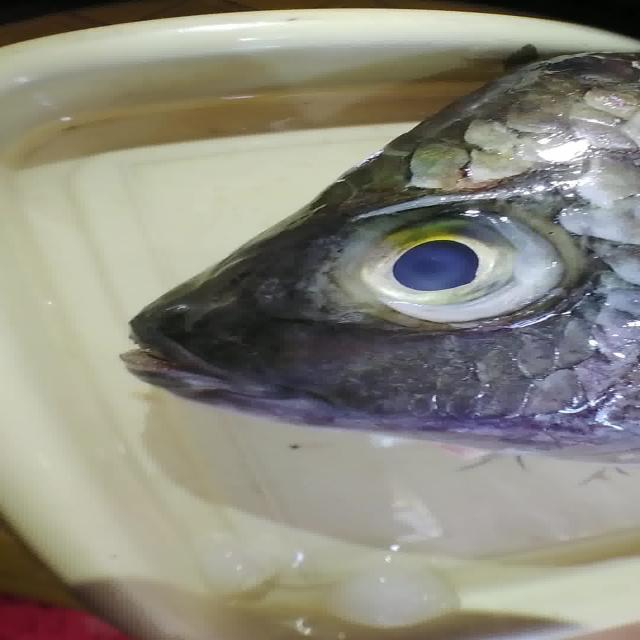Fresh: (342, 207, 565, 335)
